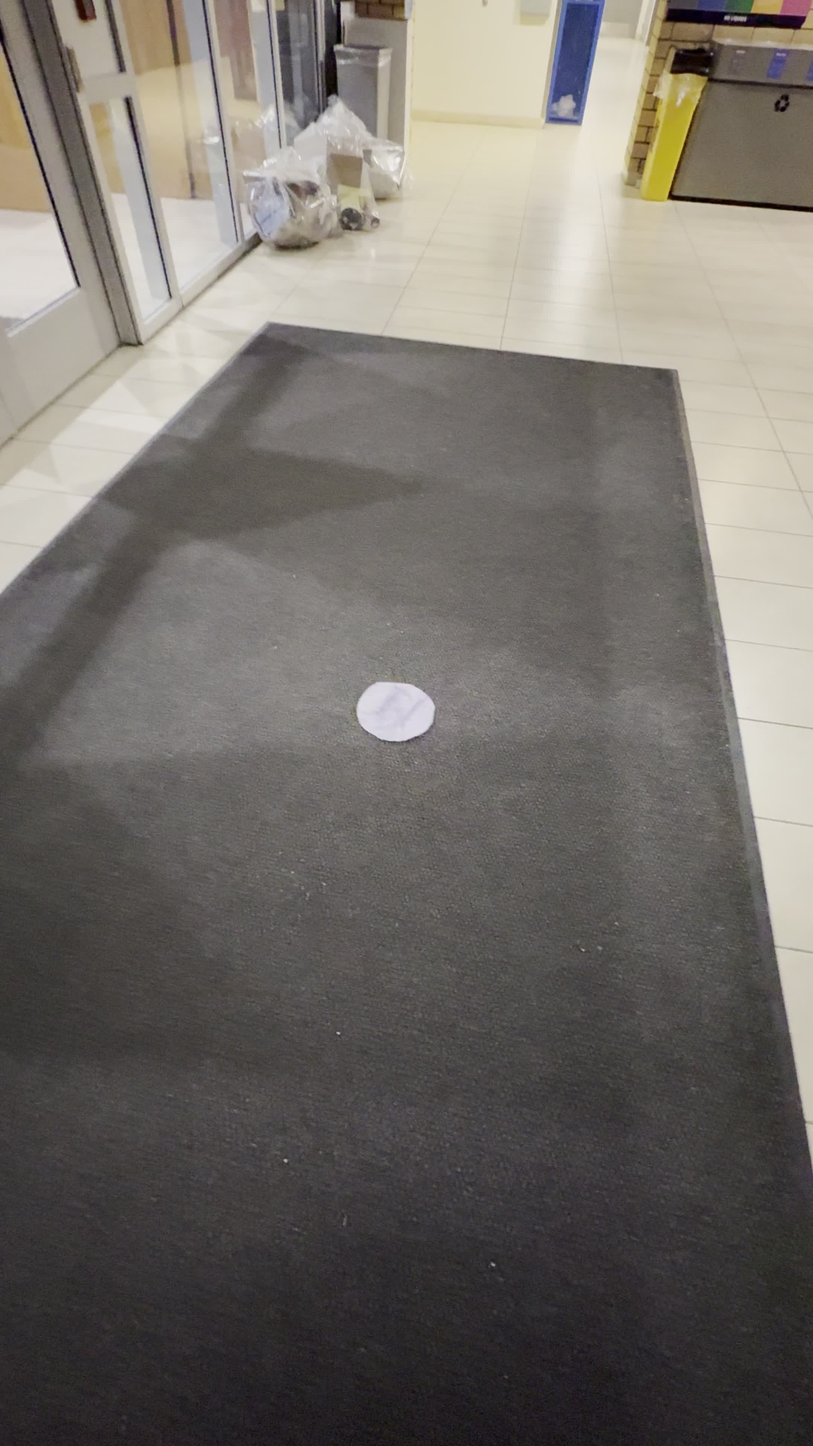Target: (356, 681, 435, 742)
